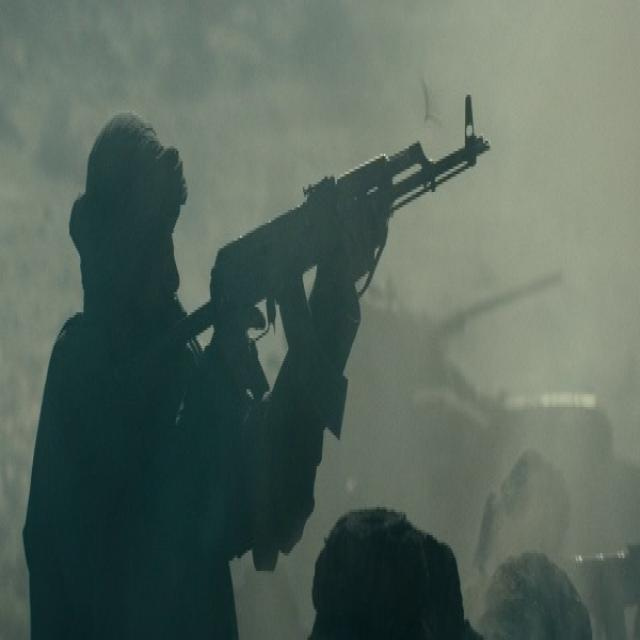rifle: (169, 69, 494, 457)
